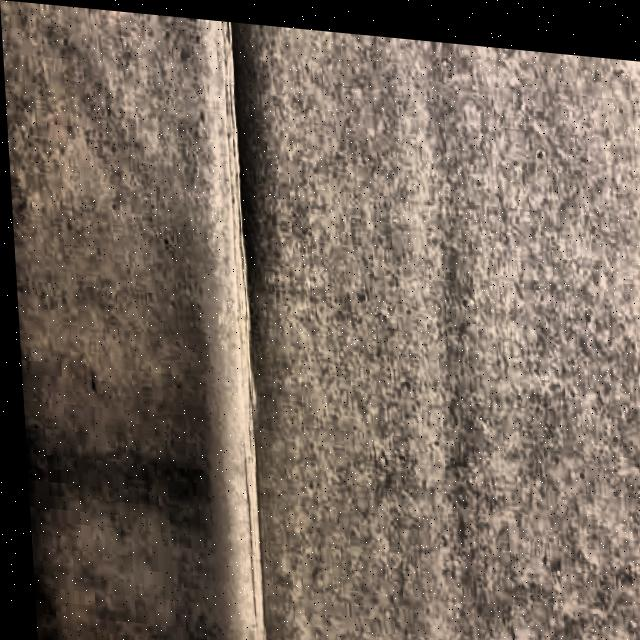cardboard: (0, 0, 640, 640), (0, 0, 272, 640)
